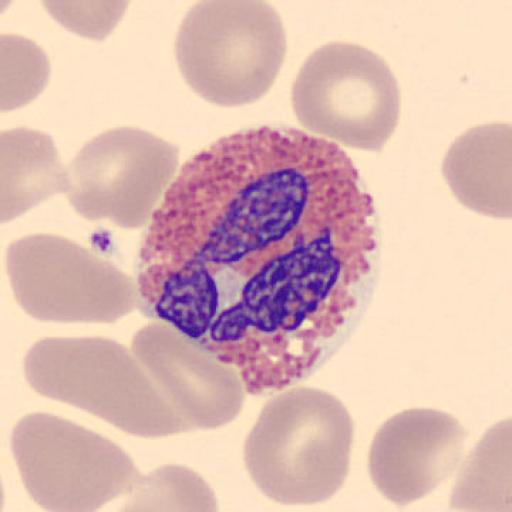RBC: (22, 332, 186, 438), (240, 384, 356, 509), (10, 410, 139, 512), (128, 322, 246, 433), (289, 39, 402, 154), (171, 0, 288, 110), (4, 231, 138, 326), (64, 124, 182, 231), (366, 405, 470, 508), (439, 120, 512, 221), (2, 124, 72, 226), (91, 462, 221, 512), (449, 413, 512, 512), (86, 478, 220, 512), (2, 31, 52, 114), (37, 0, 133, 42), (0, 0, 24, 27)
WBC: (137, 123, 381, 395)
